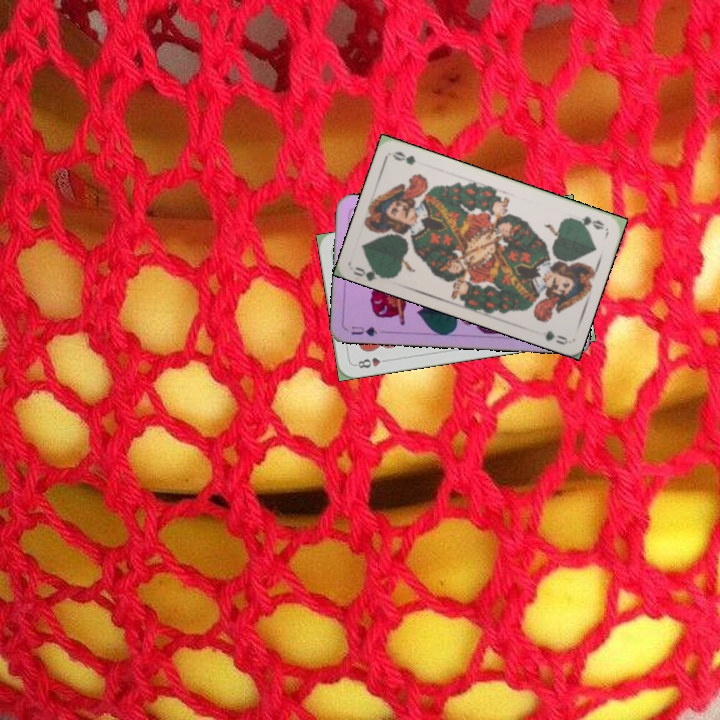GO: (349, 261, 390, 283), (568, 212, 607, 232)
GU: (347, 322, 380, 339)
H8: (351, 353, 392, 371)
